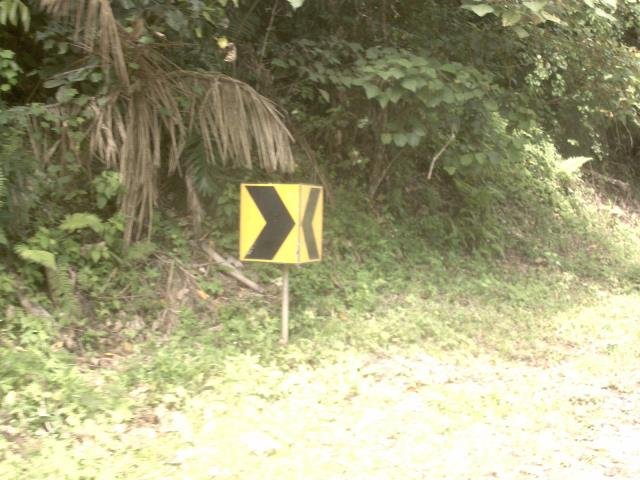traffic_sign: (229, 175, 304, 276)
